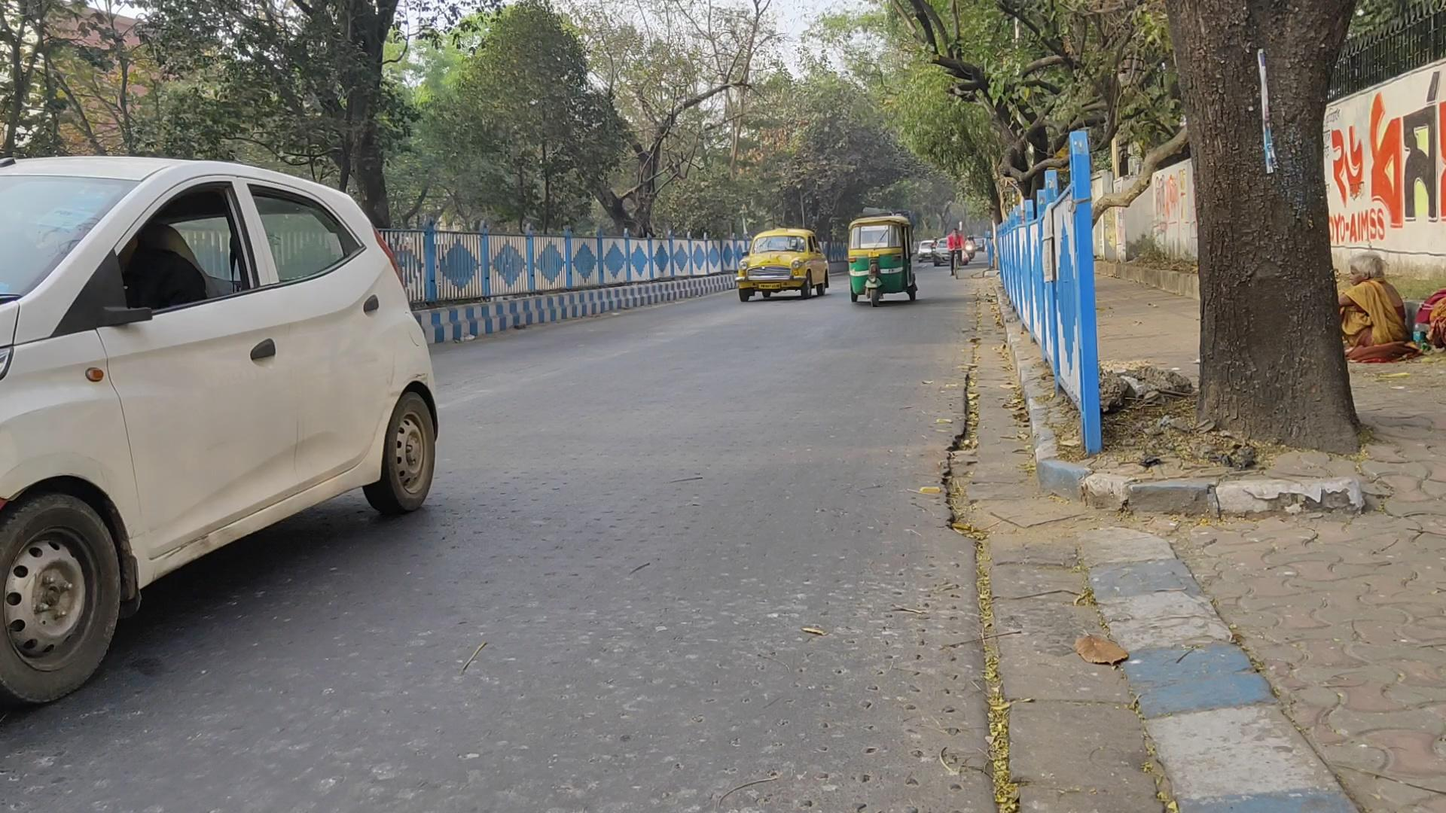Auto: (846, 215, 920, 308)
bike: (946, 227, 966, 280)
car: (1, 152, 440, 706), (736, 225, 831, 303), (934, 238, 968, 267)
